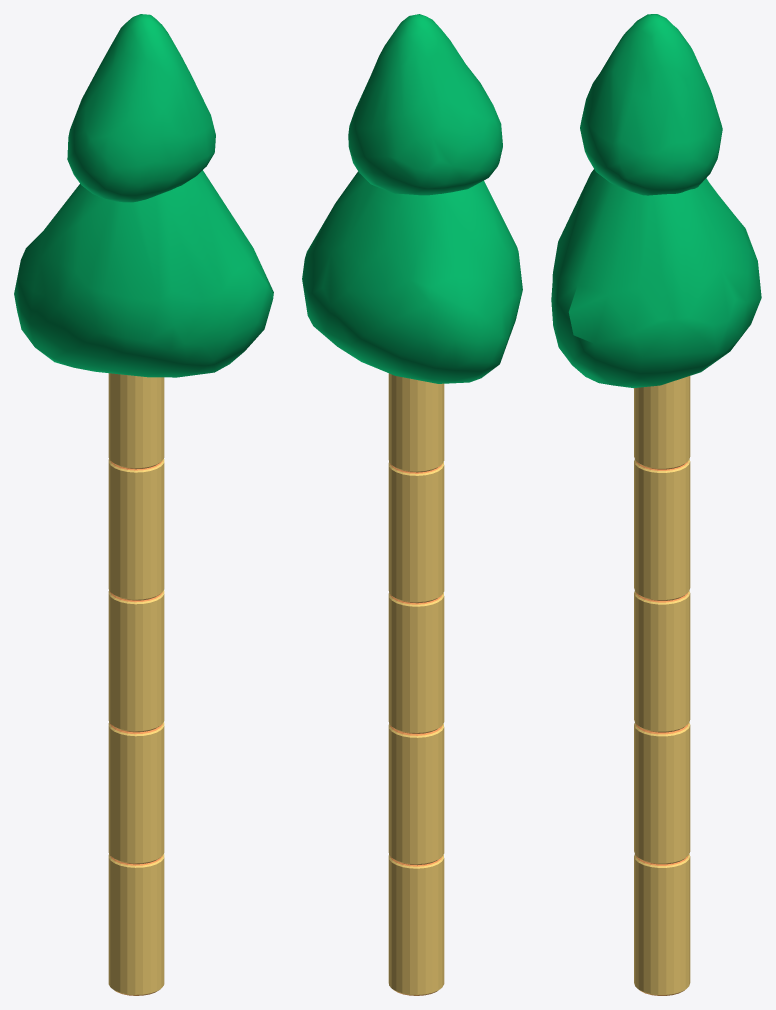
File: Tree_3.fbx
3 views of the same model, side by side, from view 1: azimuth 30°, elevation 25°; view 2: azimuth 150°, elevation 25°; view 3: azimuth 270°, elevation 25° (orthographic).
Parts seen in each view (by area): view 1: rock.059, rock.060, Cylinder.174, Cylinder.173, Cylinder.170, Cylinder.172, Cylinder.171; view 2: rock.059, rock.060, Cylinder.174, Cylinder.170, Cylinder.173, Cylinder.172, Cylinder.171; view 3: rock.059, rock.060, Cylinder.174, Cylinder.173, Cylinder.170, Cylinder.172, Cylinder.171.
Boxes of the visible parts, box(x1,y1,x2,y2) form: rock.059: box(14, 170, 273, 377); rock.060: box(67, 14, 215, 202); Cylinder.174: box(108, 722, 164, 864); Cylinder.173: box(108, 590, 164, 732); Cylinder.170: box(108, 854, 164, 995); Cylinder.172: box(108, 458, 164, 600); Cylinder.171: box(108, 373, 164, 469); rock.059: box(302, 171, 522, 383); rock.060: box(348, 14, 502, 195); Cylinder.174: box(388, 724, 444, 865); Cylinder.170: box(388, 854, 444, 995); Cylinder.173: box(388, 592, 444, 733); Cylinder.172: box(388, 462, 444, 603); Cylinder.171: box(388, 373, 444, 472); rock.059: box(551, 169, 761, 388); rock.060: box(580, 14, 722, 195); Cylinder.174: box(634, 722, 690, 864); Cylinder.173: box(634, 591, 690, 732); Cylinder.170: box(634, 854, 690, 995); Cylinder.172: box(634, 459, 690, 600); Cylinder.171: box(634, 376, 690, 469).
Size of the model in its own units: 249 by 1104 by 217.
